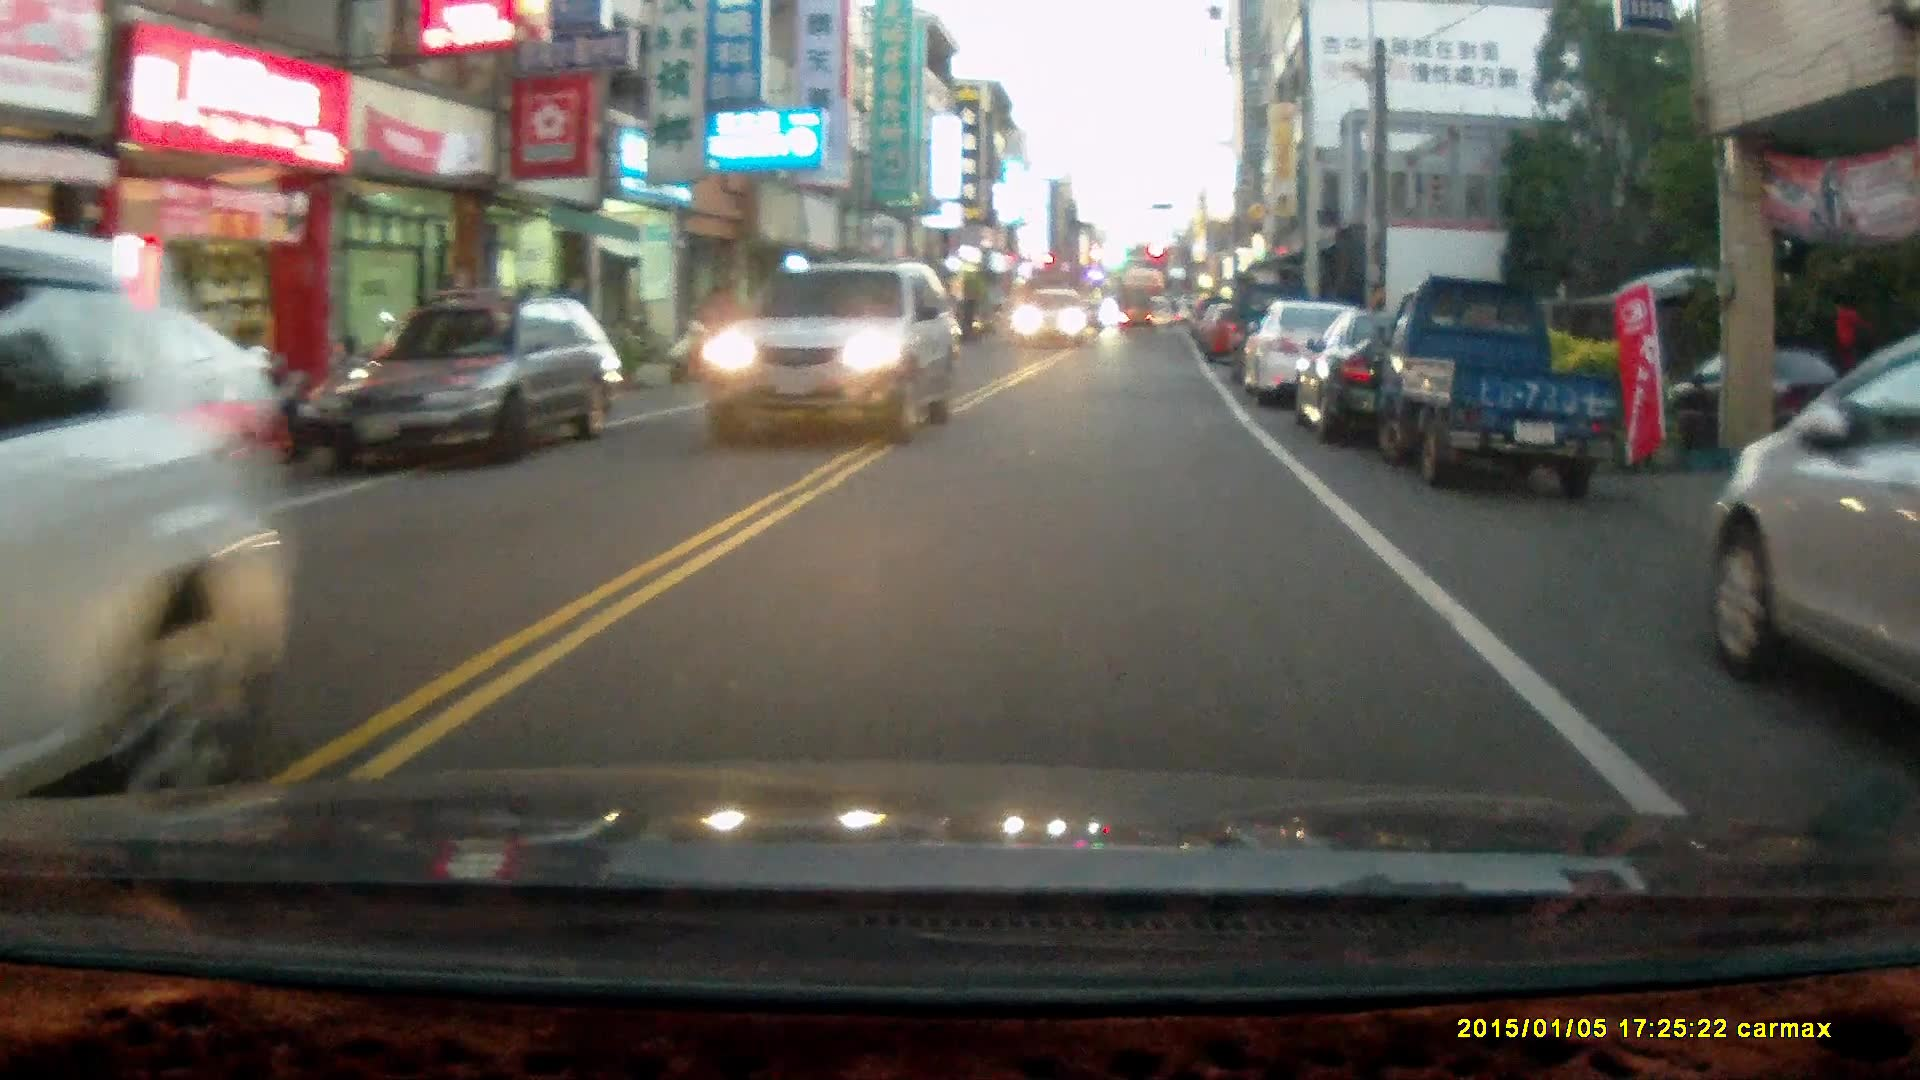pedestrian: (1825, 289, 1880, 467)
vehicle: (1, 245, 294, 799), (1709, 329, 1920, 717), (1371, 269, 1639, 499), (312, 291, 625, 471), (707, 257, 965, 441), (1302, 305, 1517, 442), (1242, 299, 1397, 407), (1011, 288, 1095, 347)
